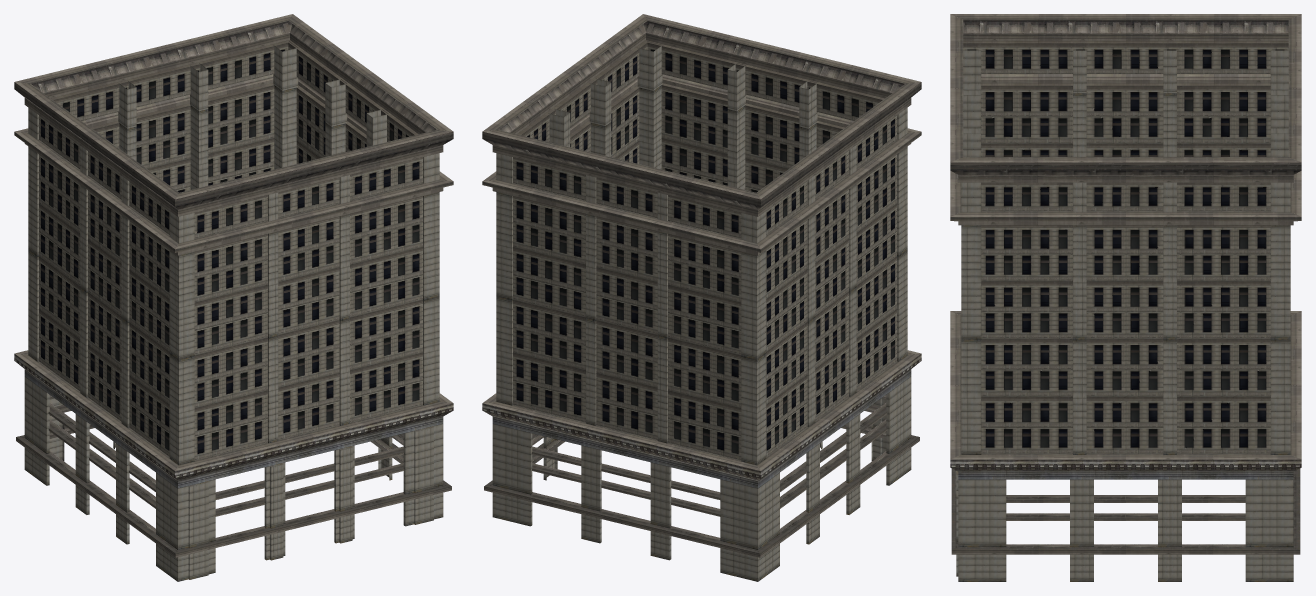
Rendered from downtown_modernoffice_5_b_downtown_facade_flr_4_0_lev3.glb.
3 renders of one model, left to right at view 1: azimuth 30°, elevation 25°; view 2: azimuth 150°, elevation 25°; view 3: azimuth 270°, elevation 25°, orthographic. The views are drawn at different scales.
Visible parts, largest first — view 1: downtown_modernoffice_5_b_downtown_facade_flr_4_0_lev3; view 2: downtown_modernoffice_5_b_downtown_facade_flr_4_0_lev3; view 3: downtown_modernoffice_5_b_downtown_facade_flr_4_0_lev3.
Part boxes in pixels (x1=…): downtown_modernoffice_5_b_downtown_facade_flr_4_0_lev3: x1=14, y1=14, x2=453, y2=581; downtown_modernoffice_5_b_downtown_facade_flr_4_0_lev3: x1=482, y1=14, x2=921, y2=581; downtown_modernoffice_5_b_downtown_facade_flr_4_0_lev3: x1=950, y1=14, x2=1301, y2=581.
Size of the model in its own units: 23.09 by 30.64 by 23.09.
Materials: 1 (1 with a texture image).
